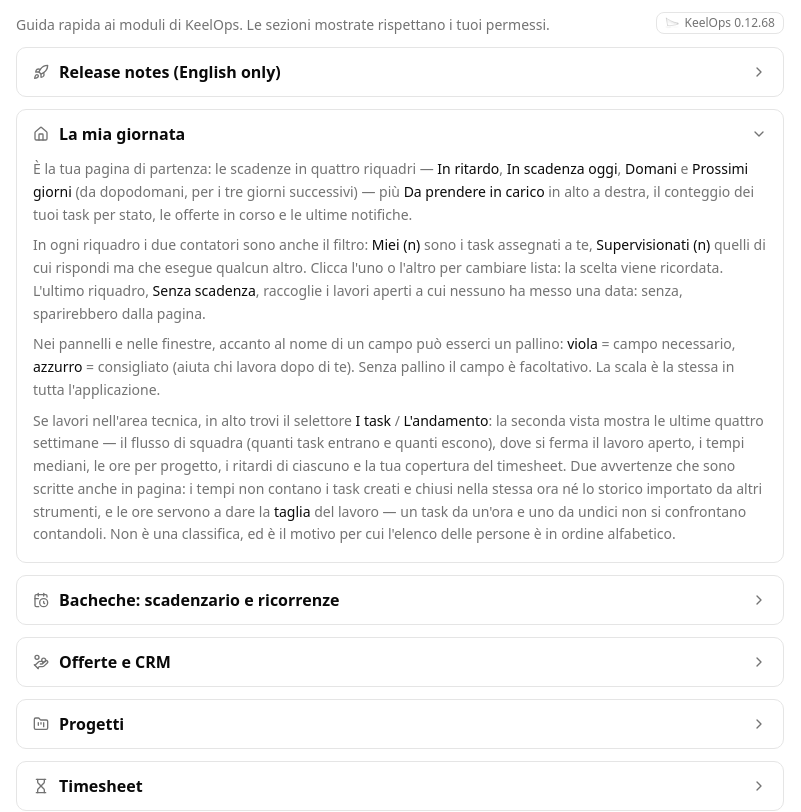
Test: help page › community: the timesheet summaries are for managers, without CSV
Click the button "Timesheet" at (101, 786), box [17,762,783,810]
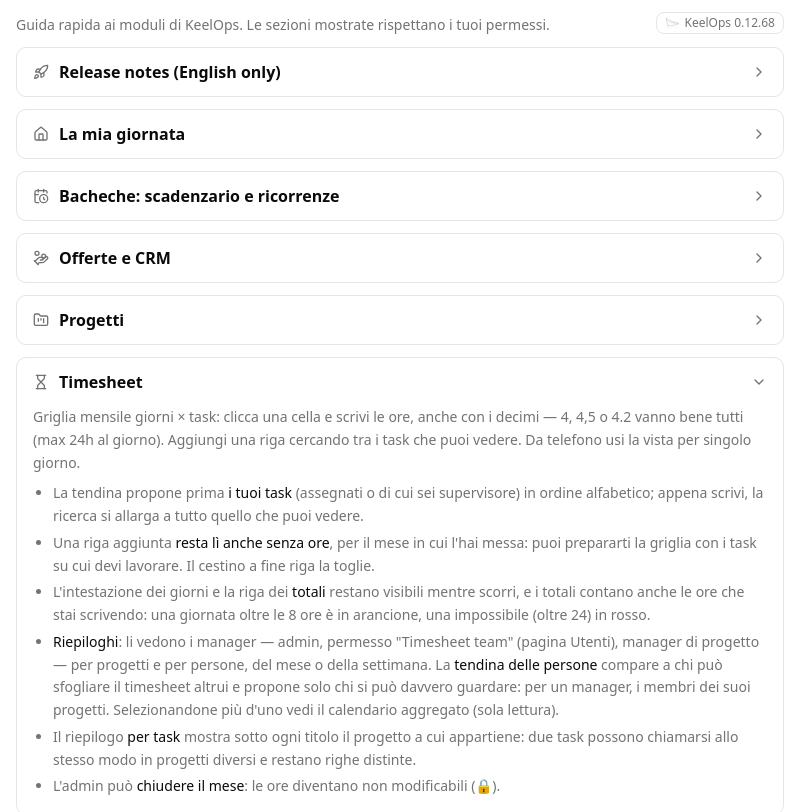
Expected: the list item "li vedono i manager" is shown, [53,632,759,674]
